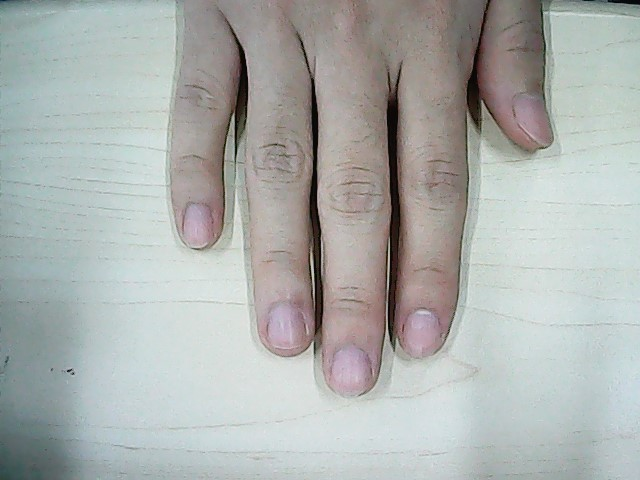nail: (508, 90, 556, 151), (328, 344, 376, 399), (401, 306, 444, 361), (267, 298, 307, 357), (177, 199, 217, 251)
